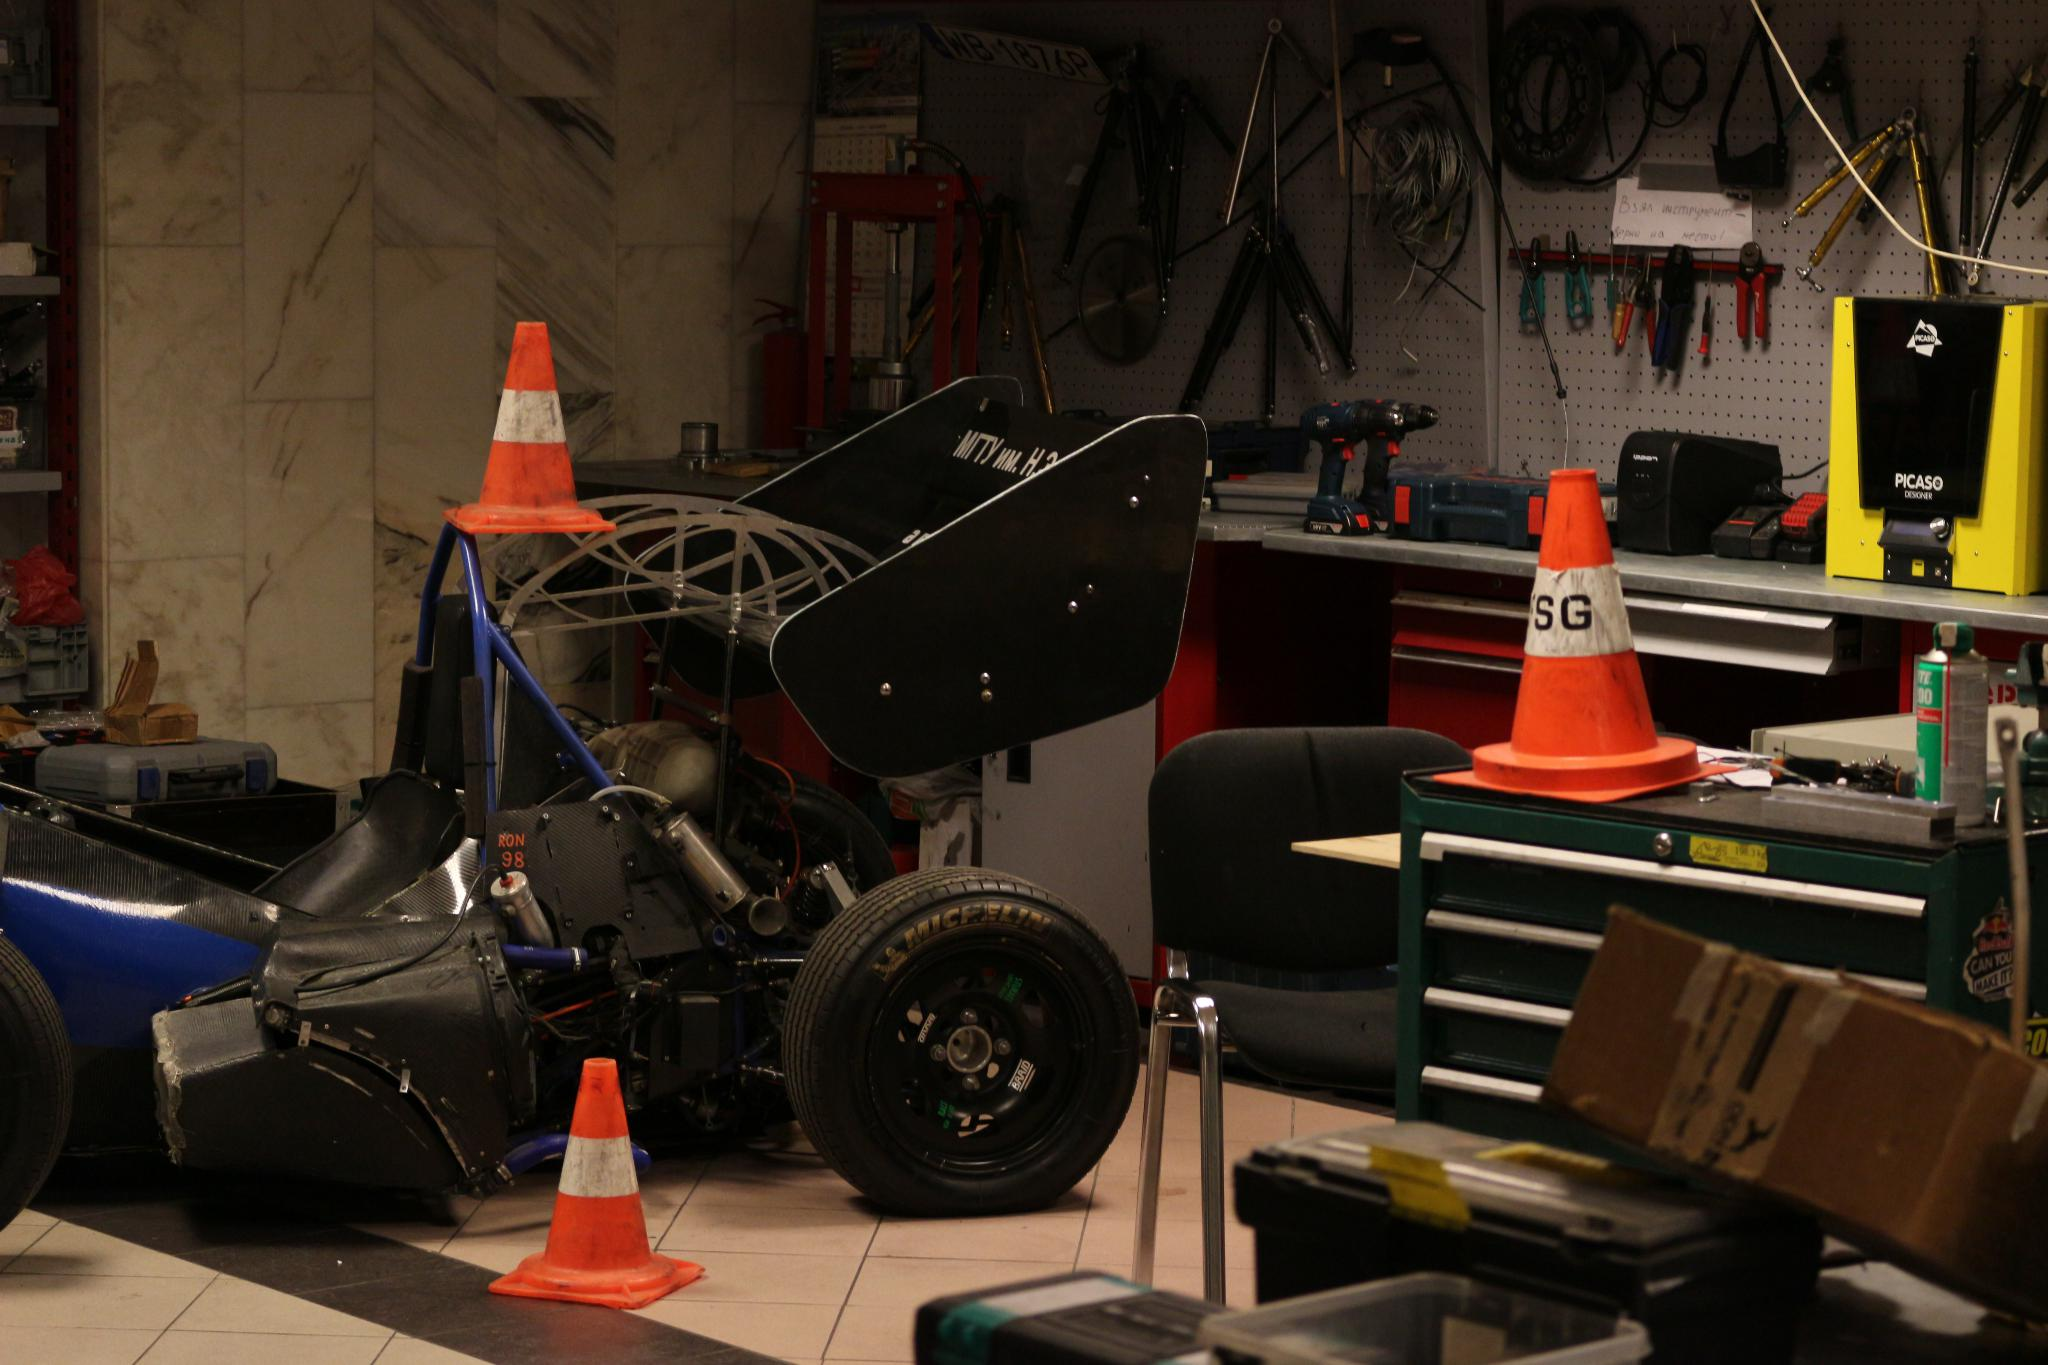Orange_Cone: (1456, 472, 1719, 800), (481, 1036, 700, 1315), (437, 297, 632, 538)
